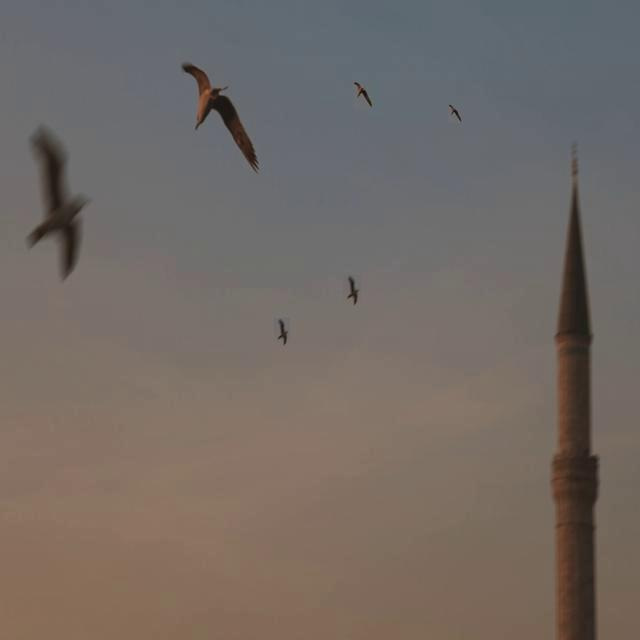bird: (24, 126, 94, 290), (181, 65, 261, 176), (340, 274, 365, 310), (354, 82, 374, 108), (275, 318, 290, 346), (447, 105, 462, 124)
